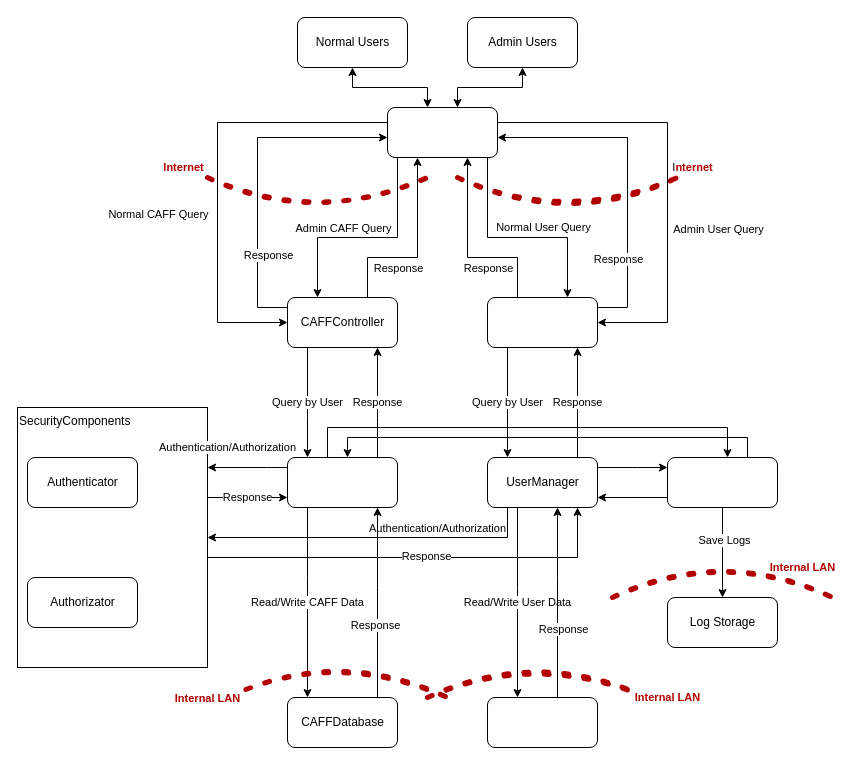
This 853x765 diagram has some shape labels left out. Here are the shapes that lost their labels. From the top down, the centre of each, then its label:
pixel 442 132: Frontend
pixel 542 322: UserController
pixel 342 482: CAFFManager
pixel 722 482: Logger
pixel 542 722: UserDatabase
